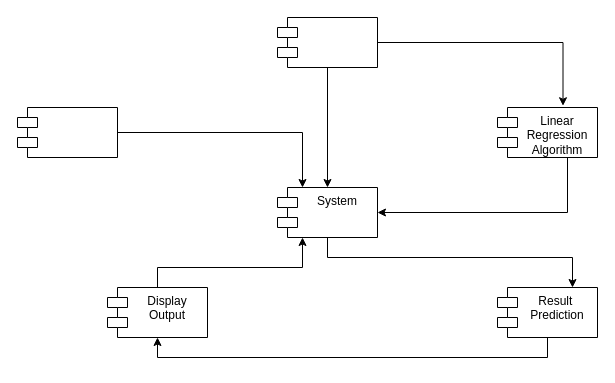
This 615x383 diagram has some shape labels left out. The shapes that lost their labels are listed below. From the top down, each one's centre as x and y in pixels, then its label:
At point (327, 42): "Student SGPA Data".
At point (67, 132): "Enter SGPA".
